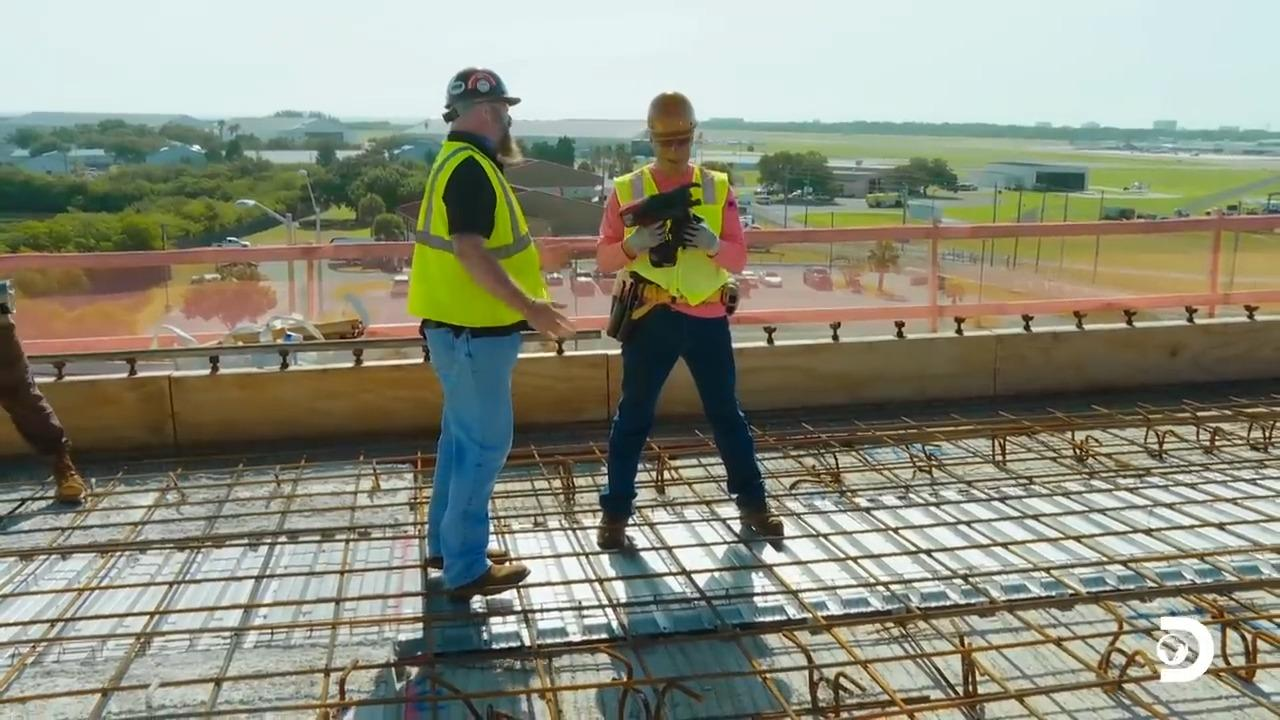Gloves: (678, 214, 716, 258), (628, 223, 666, 256)
Helmet: (442, 66, 520, 122), (646, 90, 697, 144)
Person: (405, 66, 576, 601), (594, 90, 785, 551), (0, 303, 86, 503)
Safety Boot: (446, 563, 529, 593), (734, 497, 787, 538), (592, 514, 626, 555)
Safety Vest: (420, 166, 533, 327), (623, 172, 726, 291)
bare-arms: (527, 299, 566, 348)
